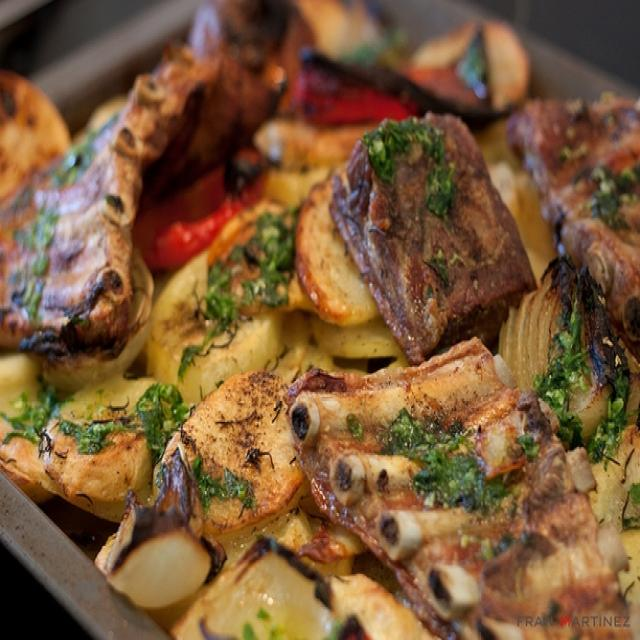猪肉菜式: (11, 12, 628, 622)
